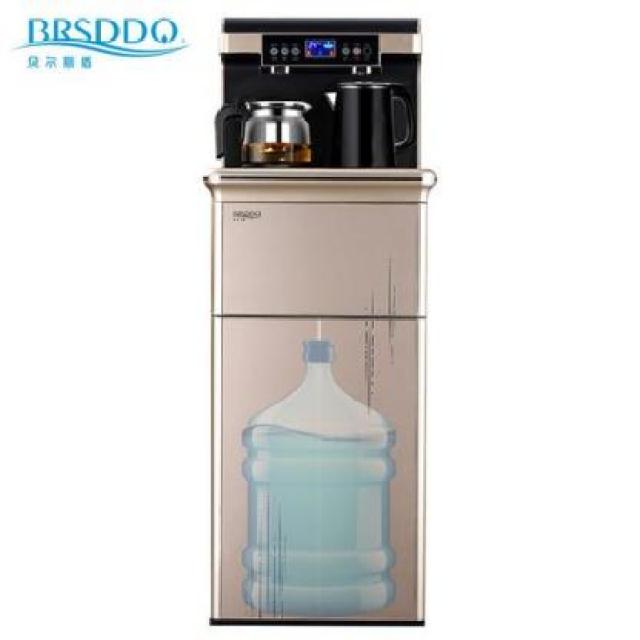cooler: (202, 12, 432, 635)
